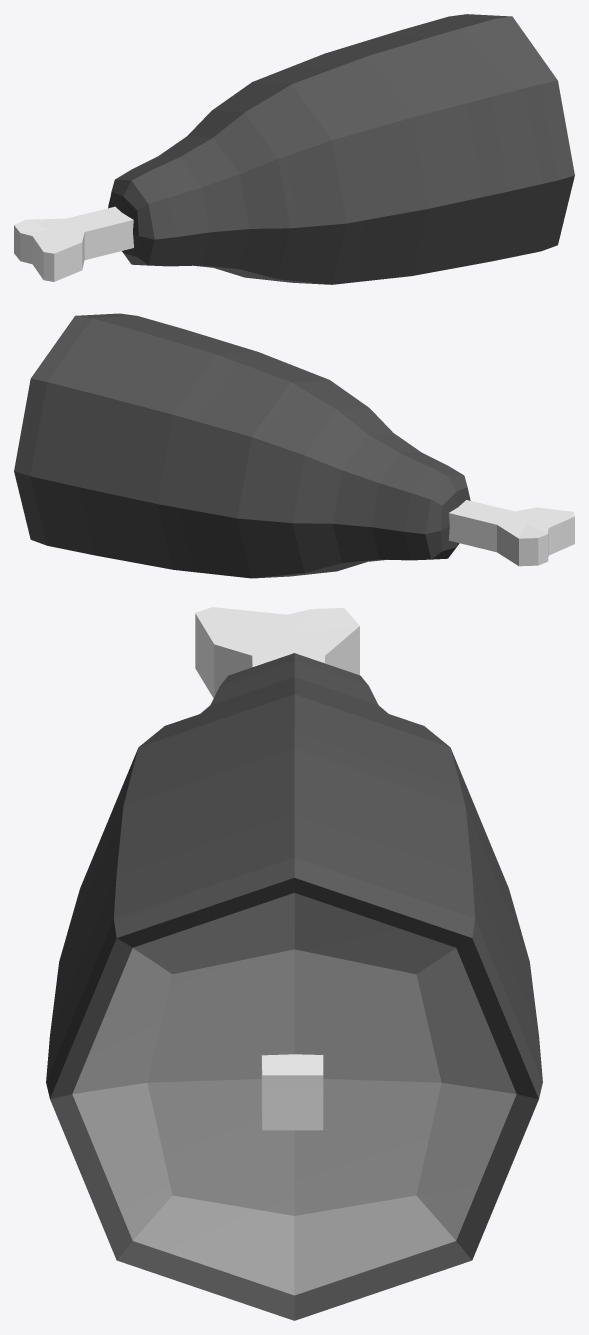
The model's file is MeatyBoneModel.fbx.
3 views of the same model, one above another, from view 1: azimuth 30°, elevation 25°; view 2: azimuth 150°, elevation 25°; view 3: azimuth 270°, elevation 25° (orthographic). The views are drawn at different scales.
Visible parts, largest first — view 1: MeatyBoneModel; view 2: MeatyBoneModel; view 3: MeatyBoneModel.
Part boxes in pixels (<box>): MeatyBoneModel: <box>14,14,574,284</box>; MeatyBoneModel: <box>14,313,574,578</box>; MeatyBoneModel: <box>46,607,542,1320</box>.
Size of the model in its own units: 90.02 by 40.37 by 40.37.
